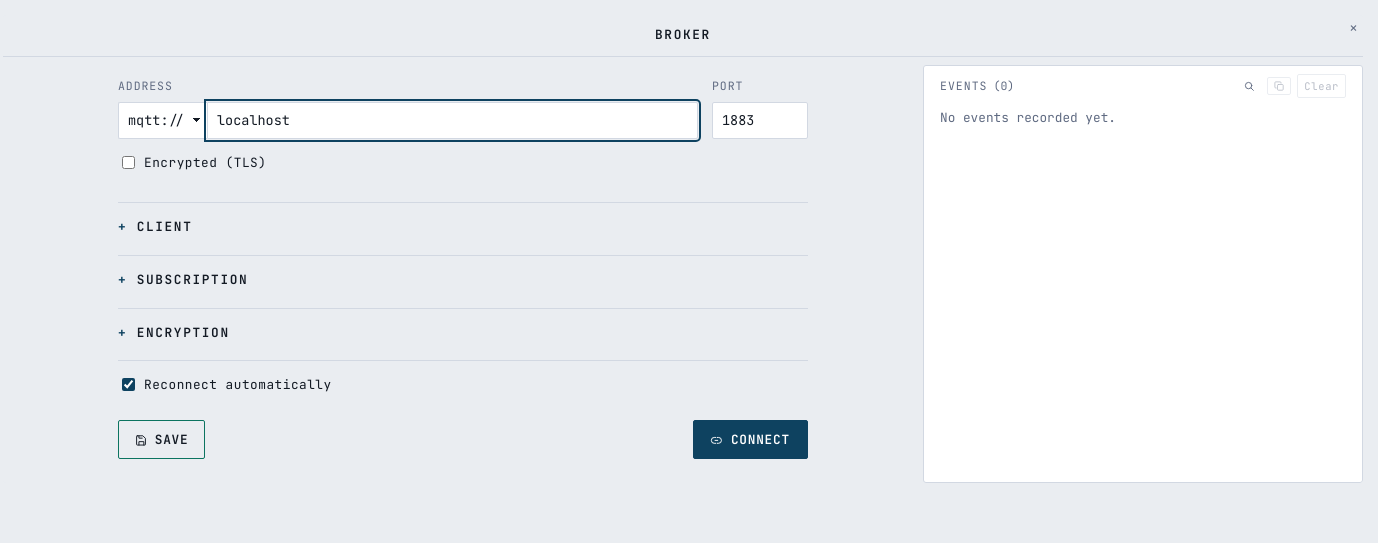
BrokerPanel › shows why the connect failed, in words, under the buttons
Click the button "Connect" at (751, 440), box [693,420,808,459]
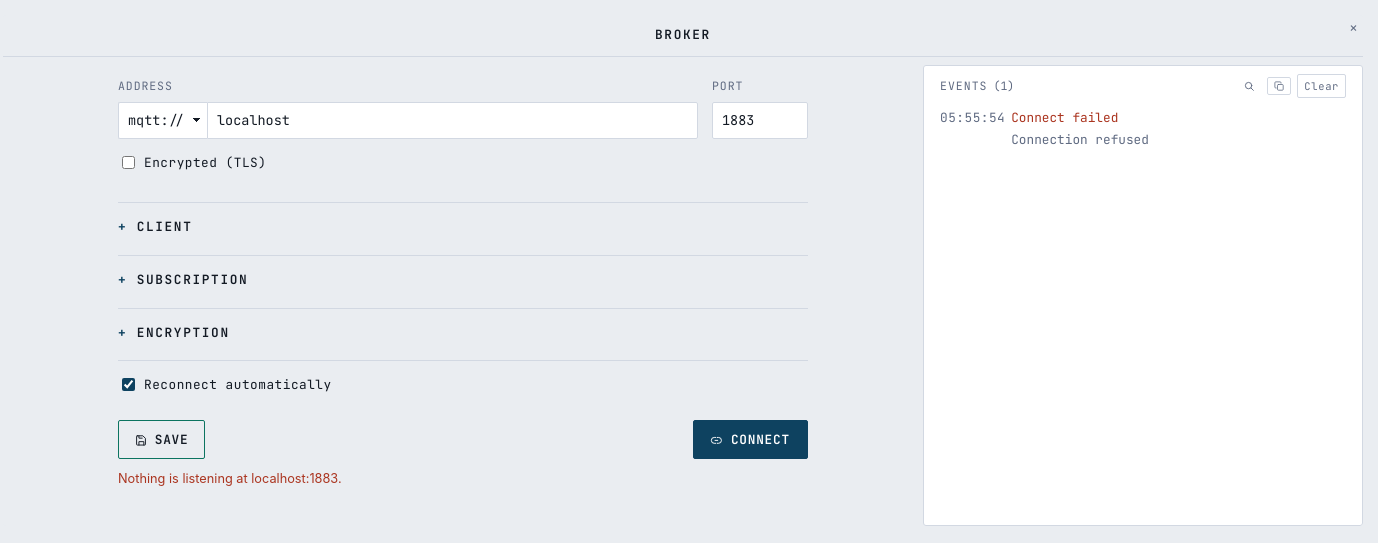
Result: the message reads "Nothing is listening at localhost:1883." at [118,471,342,486]
